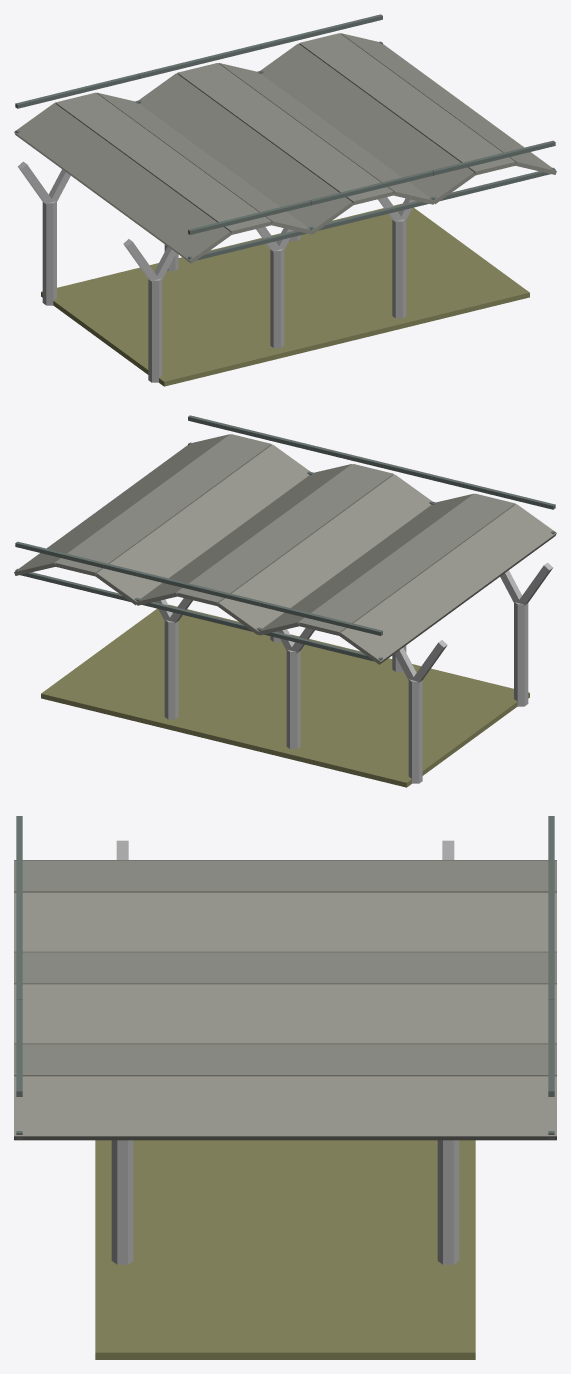
File: SM_MarquesinaBus_v0_Limpia_e0_Sano_LOD1.fbx
3 views of the same model, one above another, from view 1: azimuth 30°, elevation 25°; view 2: azimuth 150°, elevation 25°; view 3: azimuth 270°, elevation 25° (orthographic). The views are drawn at different scales.
Visible parts, largest first — view 1: SM_marquesina_bus_v0_LOD1; view 2: SM_marquesina_bus_v0_LOD1; view 3: SM_marquesina_bus_v0_LOD1.
Boxes of the visible parts, x1,y1,x2,y2 form: SM_marquesina_bus_v0_LOD1: (14,14,556,386); SM_marquesina_bus_v0_LOD1: (14,415,556,787); SM_marquesina_bus_v0_LOD1: (14,816,556,1359).
Size of the model in its own units: 13.01 by 5.46 by 10.
